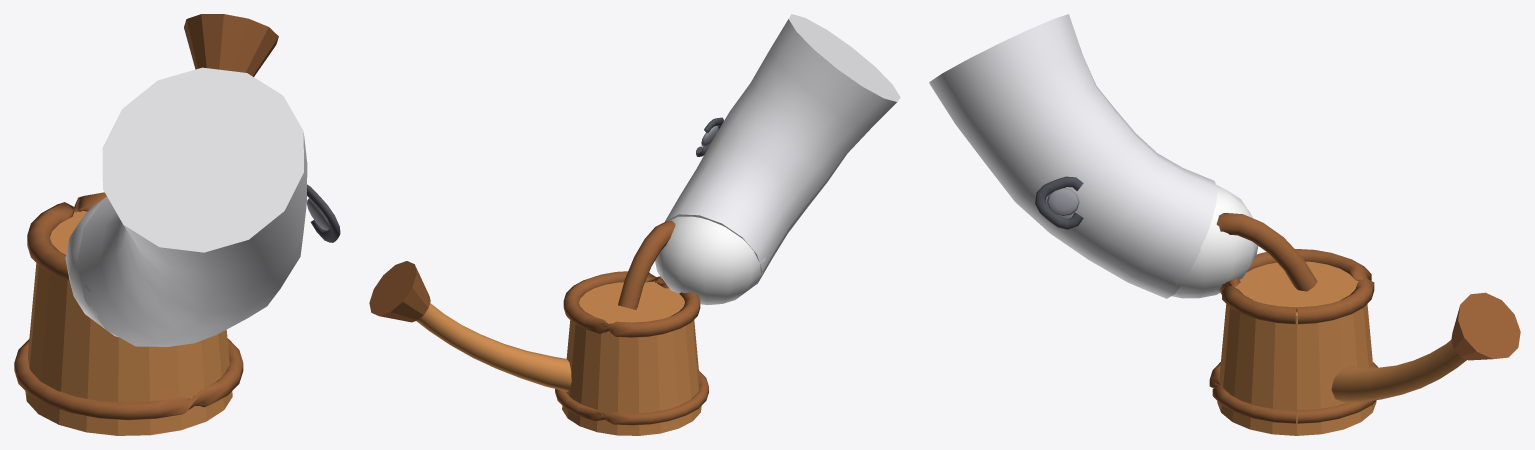
File: SnowLeopardArmR.glb
3 renders of one model, left to right at view 1: azimuth 30°, elevation 25°; view 2: azimuth 150°, elevation 25°; view 3: azimuth 270°, elevation 25°, orthographic. The views are drawn at different scales.
Parts seen in each view (by area): view 1: SnowLeopardArmR__Fur, SnowLeopardArmR__Copper, SnowLeopardArmR__CopperDark, SnowLeopardArmR__Belly, SnowLeopardArmR__Spot, SnowLeopardArmR__SpotMid; view 2: SnowLeopardArmR__Fur, SnowLeopardArmR__Copper, SnowLeopardArmR__CopperDark, SnowLeopardArmR__Belly; view 3: SnowLeopardArmR__Fur, SnowLeopardArmR__Copper, SnowLeopardArmR__CopperDark, SnowLeopardArmR__Belly, SnowLeopardArmR__Spot, SnowLeopardArmR__SpotMid.
Boxes of the visible parts, x1=… form: SnowLeopardArmR__Fur: x1=77, y1=67, x2=307, y2=346; SnowLeopardArmR__Copper: x1=25, y1=211, x2=232, y2=435; SnowLeopardArmR__CopperDark: x1=14, y1=14, x2=278, y2=420; SnowLeopardArmR__Belly: x1=65, y1=197, x2=118, y2=337; SnowLeopardArmR__Spot: x1=307, y1=184, x2=340, y2=242; SnowLeopardArmR__SpotMid: x1=307, y1=198, x2=329, y2=230; SnowLeopardArmR__Fur: x1=665, y1=14, x2=900, y2=284; SnowLeopardArmR__Copper: x1=416, y1=281, x2=701, y2=435; SnowLeopardArmR__CopperDark: x1=369, y1=220, x2=708, y2=425; SnowLeopardArmR__Belly: x1=655, y1=216, x2=765, y2=305; SnowLeopardArmR__Fur: x1=929, y1=14, x2=1217, y2=298; SnowLeopardArmR__Copper: x1=1217, y1=261, x2=1466, y2=435; SnowLeopardArmR__CopperDark: x1=1209, y1=213, x2=1520, y2=423; SnowLeopardArmR__Belly: x1=1172, y1=185, x2=1258, y2=298; SnowLeopardArmR__Spot: x1=1035, y1=176, x2=1083, y2=229; SnowLeopardArmR__SpotMid: x1=1046, y1=188, x2=1079, y2=216.
Bounding box in the file's own units: 0.7716 × 0.7309 × 1.11.
